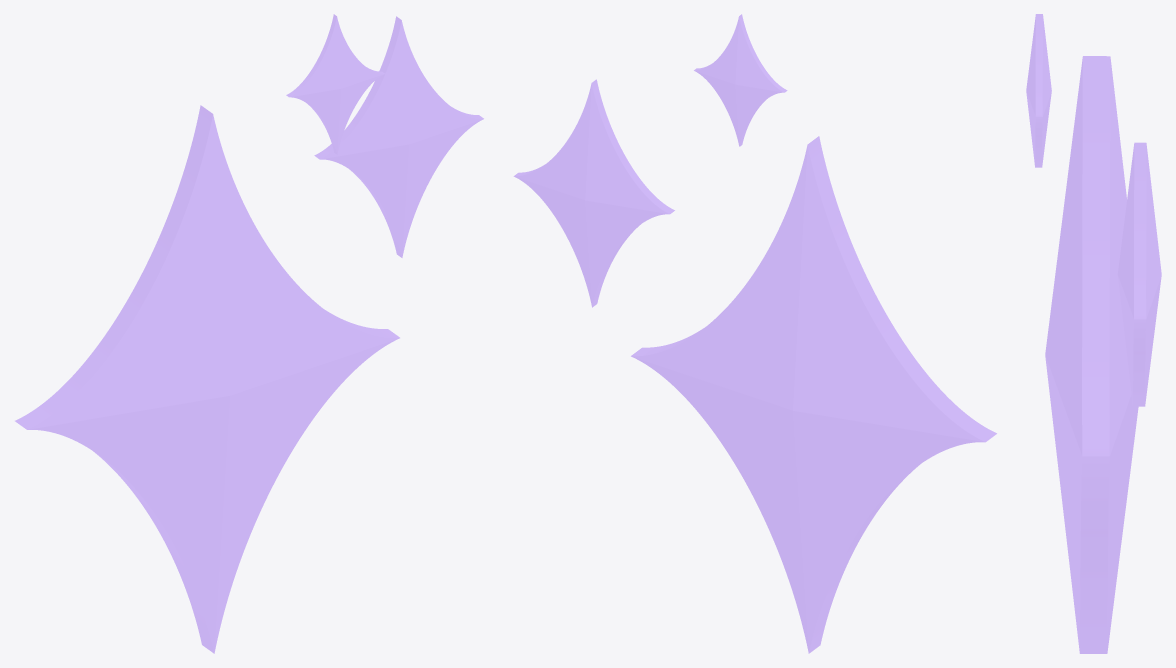
File: star.glb
3 renders of one model, left to right at view 1: azimuth 30°, elevation 25°; view 2: azimuth 150°, elevation 25°; view 3: azimuth 270°, elevation 25°, orthographic. The views are drawn at different scales.
Visible parts, largest first — view 1: Cylinder, Cylinder.002, Cylinder.001; view 2: Cylinder, Cylinder.002, Cylinder.001; view 3: Cylinder, Cylinder.002, Cylinder.001.
Boxes of the visible parts, box(x1,y1,x2,y2) form: Cylinder: box(15, 105, 399, 653); Cylinder.002: box(314, 16, 483, 257); Cylinder.001: box(286, 14, 384, 154); Cylinder: box(631, 136, 996, 653); Cylinder.002: box(513, 79, 674, 307); Cylinder.001: box(694, 14, 787, 146); Cylinder: box(1045, 56, 1138, 653); Cylinder.002: box(1117, 142, 1161, 406); Cylinder.001: box(1026, 14, 1051, 167).
Size of the model in its own units: 1.86 by 2.31 by 0.4087.
